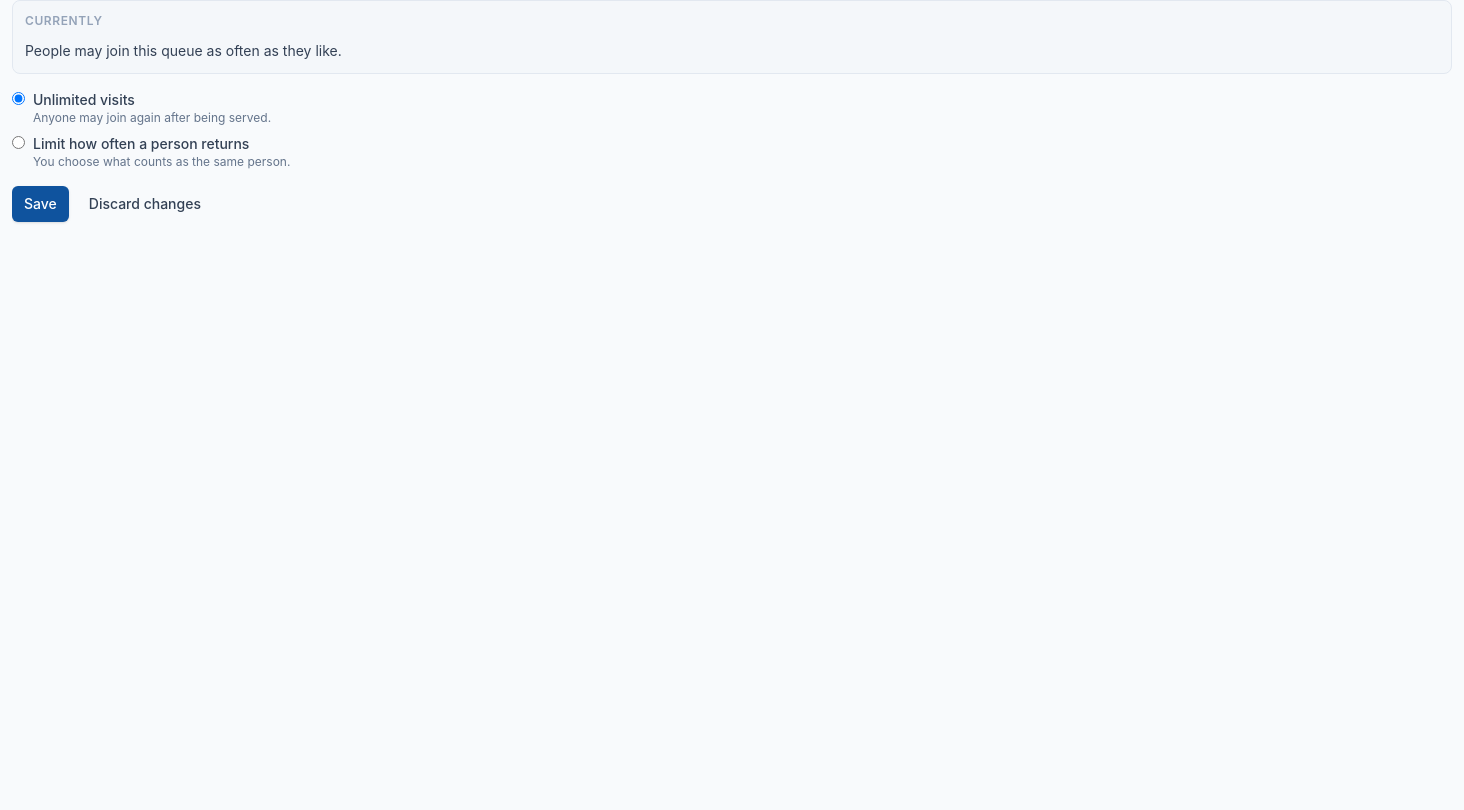
Test: RepeatVisitPolicy — identity options › asks for the identifying question in the compound mode
Click the radio button labelled "Limit how often a person returns". click: (18, 142)
box: [12,136,25,149]
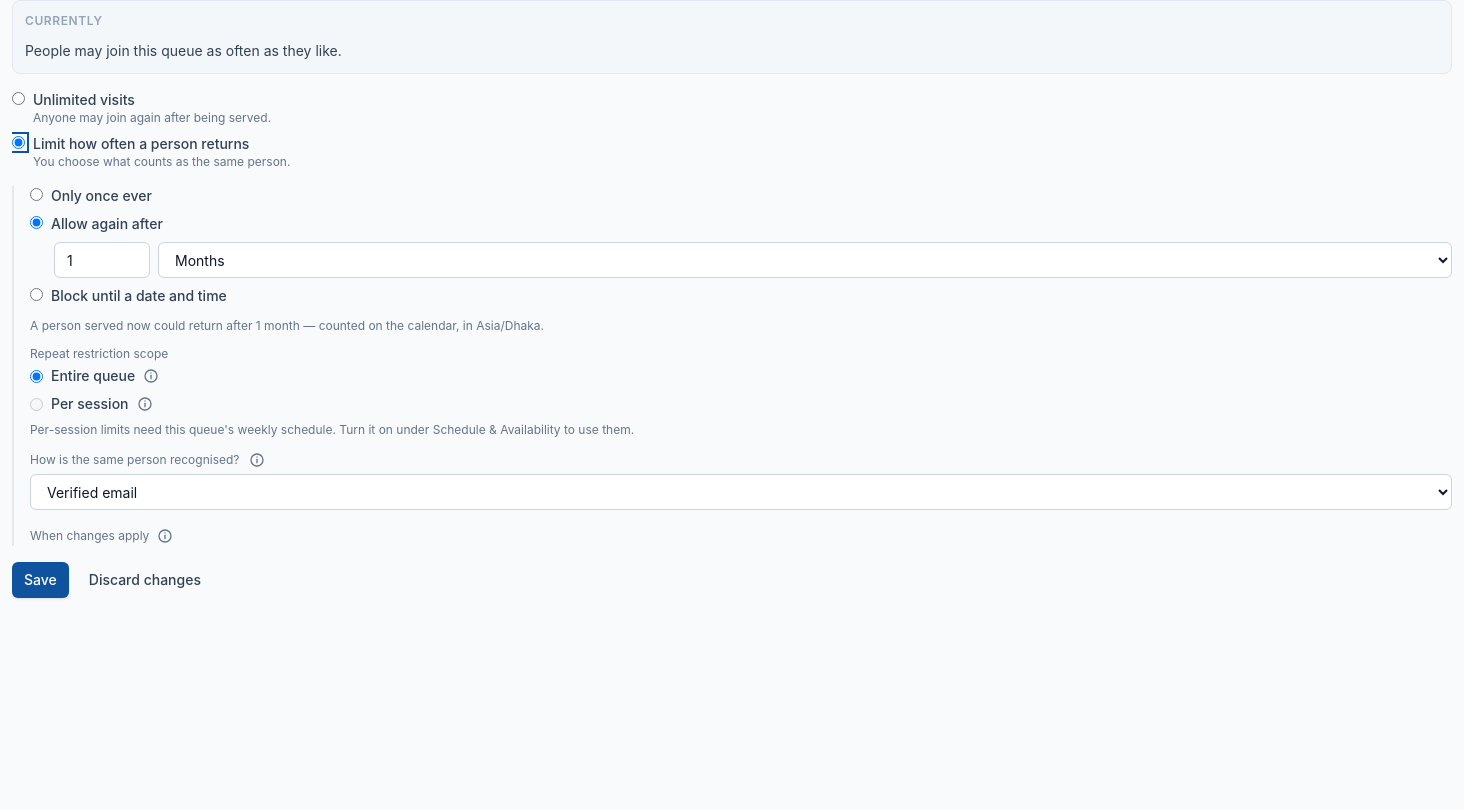
Select "Verified email + custom unique field" in the dropdown labelled "How is the same person recognised?". click: (741, 492)
box: [30,474,1452,510]
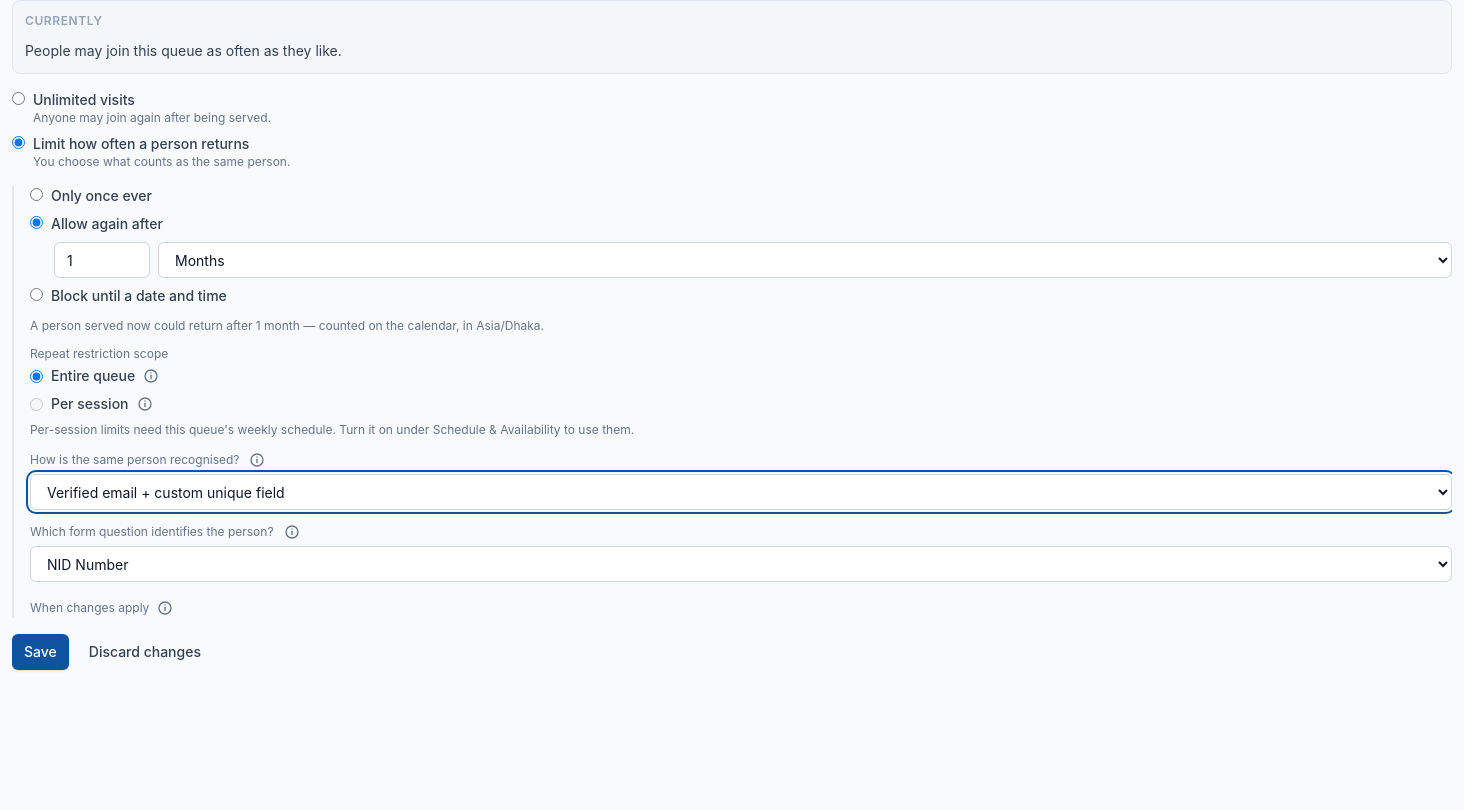
Result: the dropdown labelled "Which form question identifies the person?" is shown at [30,546,1452,582]
